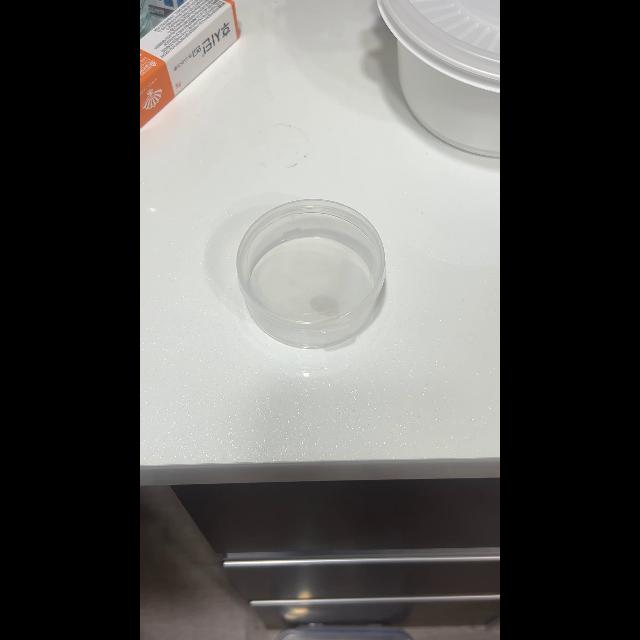clean: (234, 199, 386, 347)
